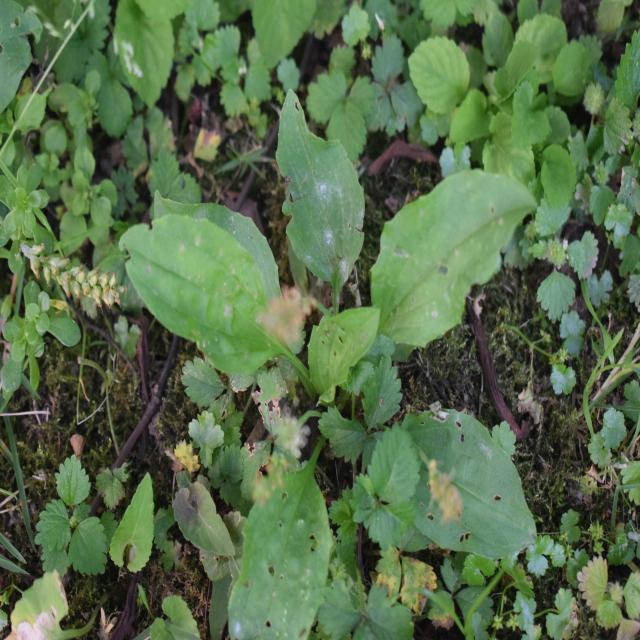plantain: (132, 140, 520, 606)
